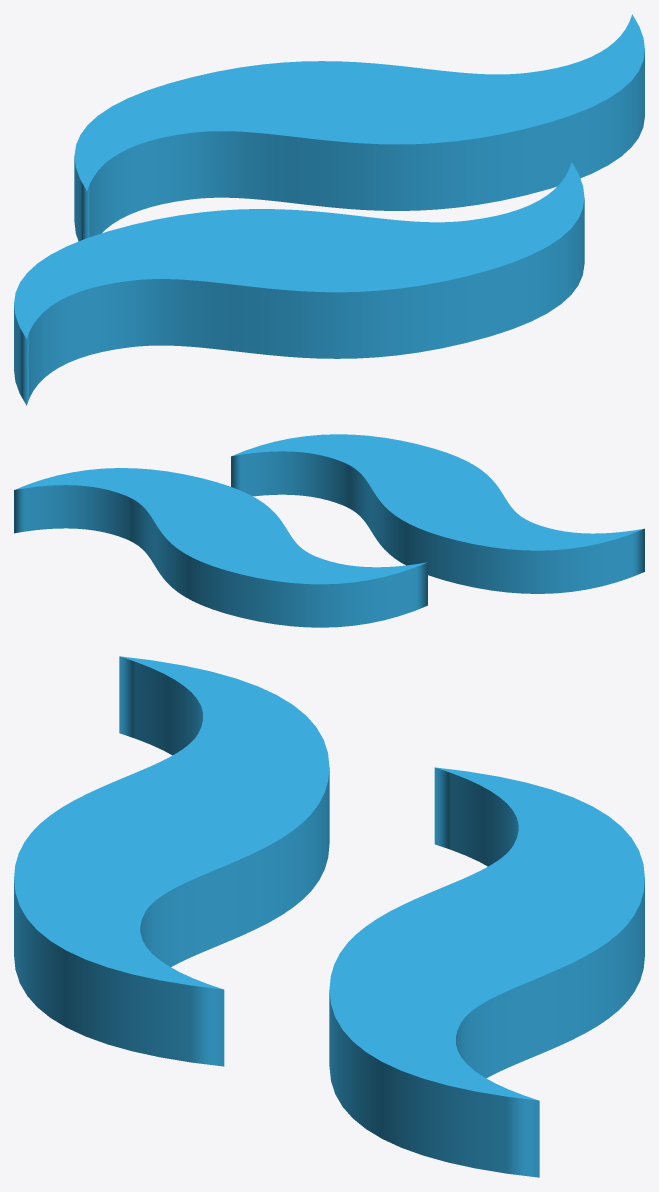
The model's file is tailwind.glb.
3 views of the same model, one above another, from view 1: azimuth 30°, elevation 25°; view 2: azimuth 150°, elevation 25°; view 3: azimuth 270°, elevation 25° (orthographic). The views are drawn at different scales.
Visible parts, largest first — view 1: Curve; view 2: Curve; view 3: Curve.
Part boxes in pixels (x1=…): Curve: x1=14, y1=14, x2=644, y2=405; Curve: x1=14, y1=434, x2=644, y2=627; Curve: x1=14, y1=656, x2=644, y2=1177.
Bounding box in the file's own units: 0.9906 × 0.08 × 0.5942.
